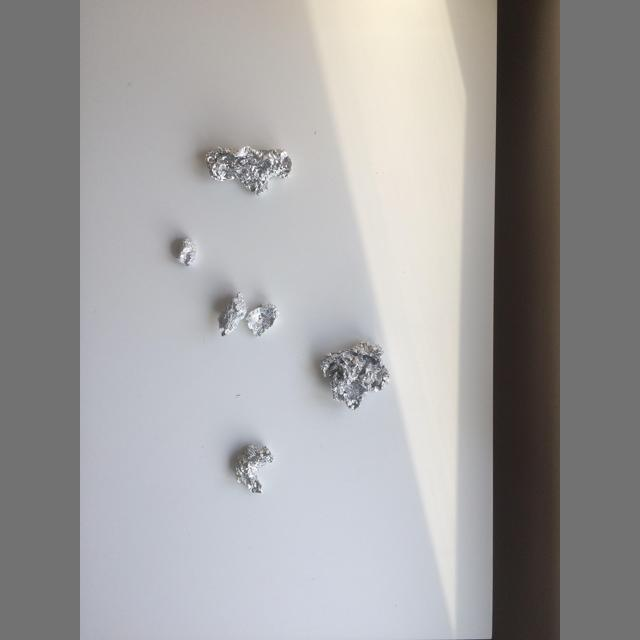litter: (319, 340, 390, 411), (204, 145, 292, 195), (235, 445, 274, 493), (218, 292, 249, 337), (245, 302, 279, 338), (176, 238, 197, 266)
